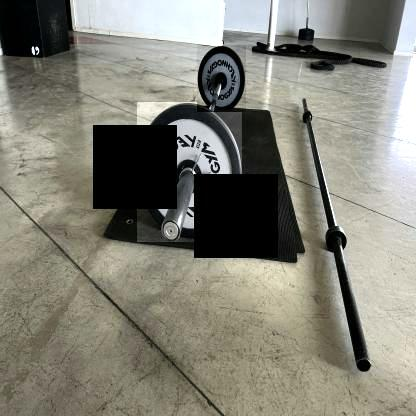barbell: (138, 103, 243, 243), (197, 45, 247, 112)
